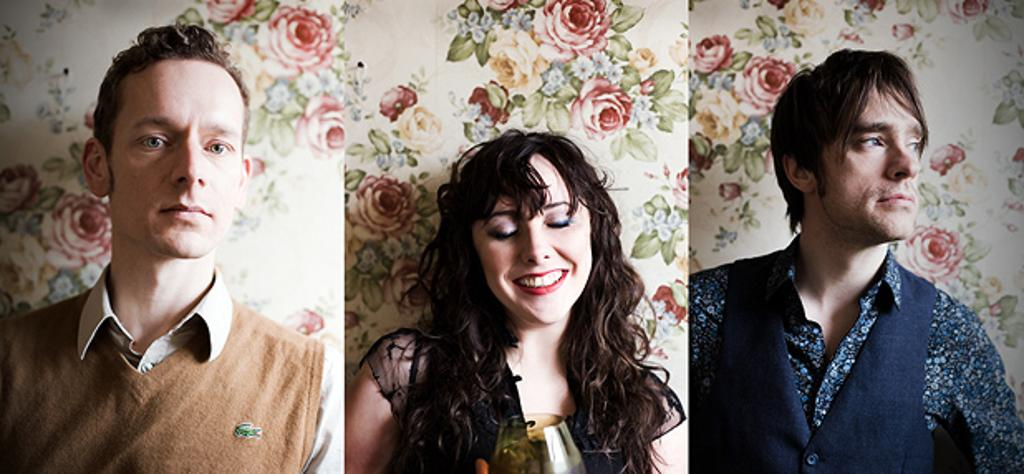face: (126, 86, 244, 250), (486, 180, 590, 324), (818, 94, 920, 236)
